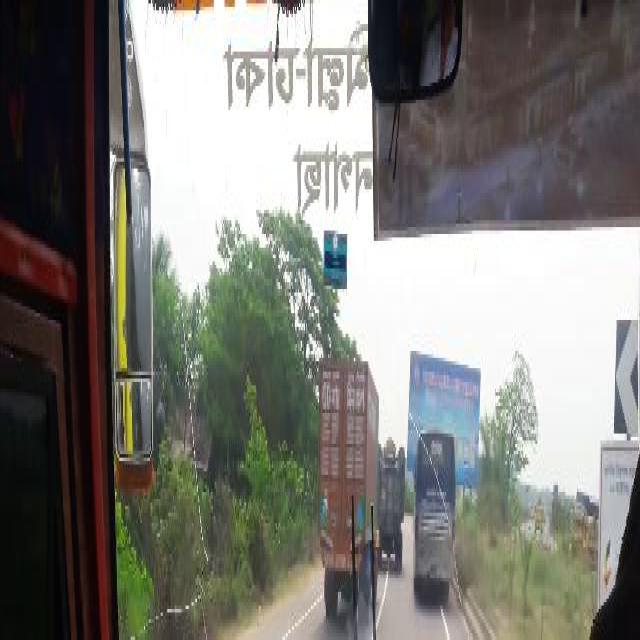bus: (414, 432, 454, 593)
truck: (319, 360, 379, 610), (378, 439, 404, 566), (572, 497, 596, 563), (534, 497, 542, 528)
